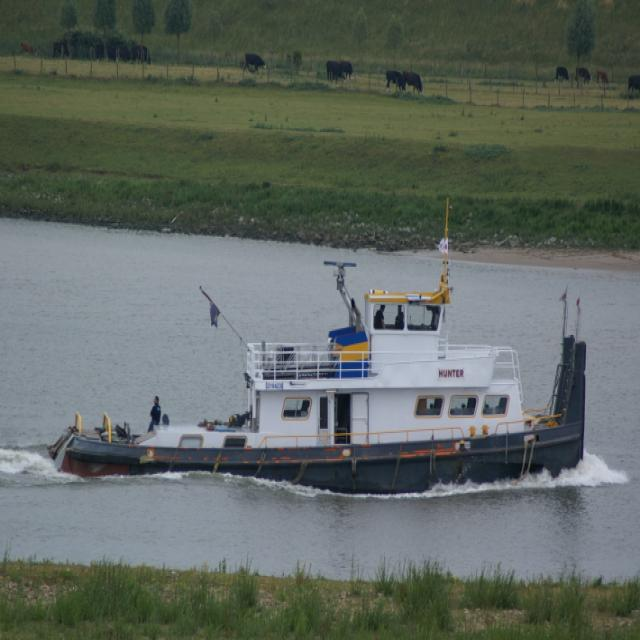tugboat: (39, 253, 592, 512)
